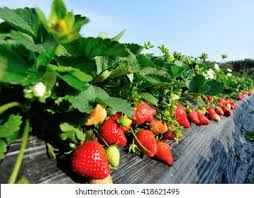ripe: (69, 140, 111, 179), (133, 130, 157, 157), (131, 101, 156, 124), (153, 139, 175, 165), (98, 117, 120, 143), (173, 102, 190, 128), (113, 123, 129, 147), (186, 108, 202, 124), (206, 106, 220, 121), (197, 112, 211, 125), (162, 128, 178, 138), (214, 102, 225, 115), (222, 107, 232, 117)
unripe: (83, 101, 106, 126), (105, 143, 122, 166), (148, 117, 169, 133), (89, 173, 116, 184), (116, 113, 135, 126)
